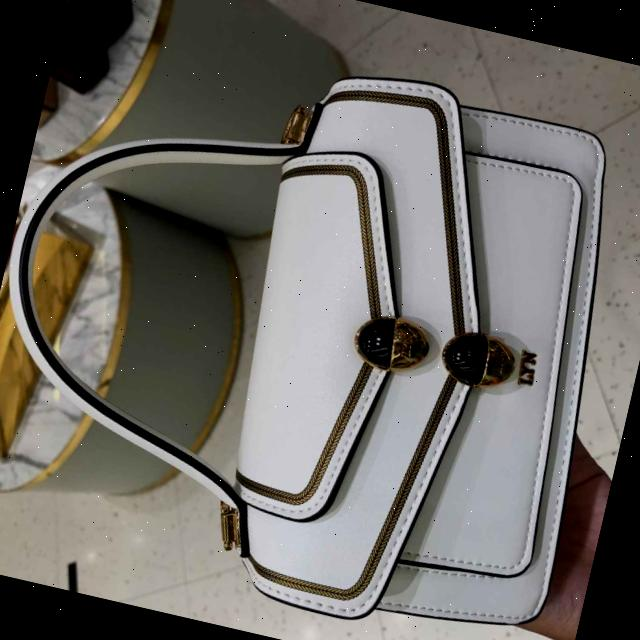Handbag: (194, 60, 640, 640)
